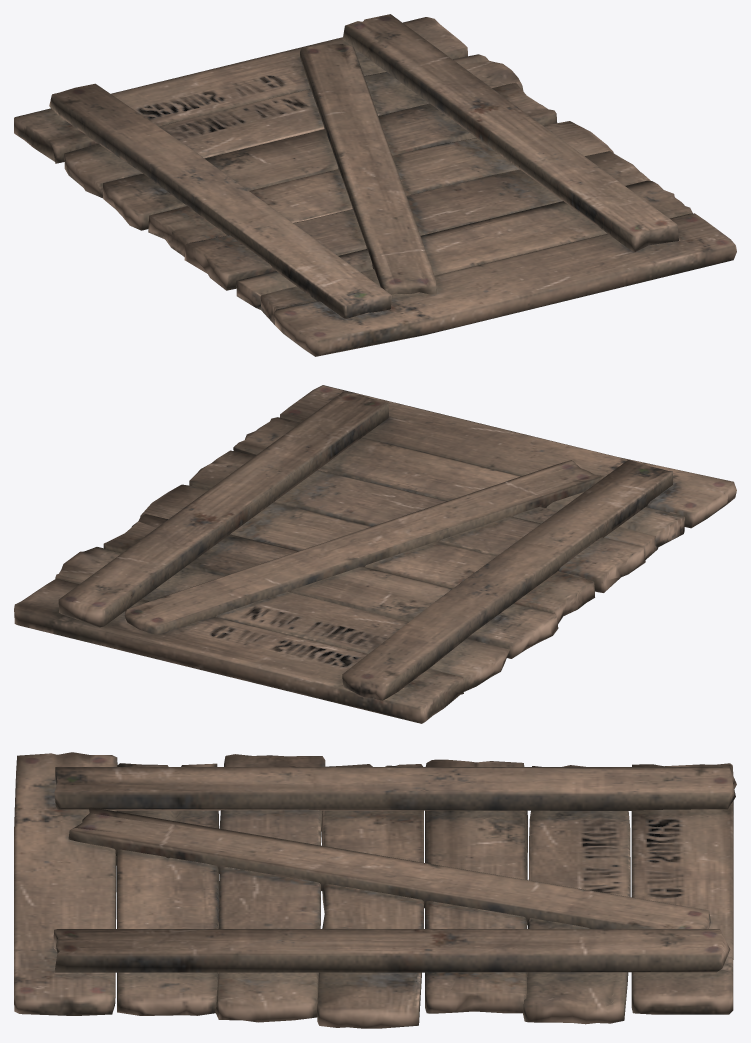
The picture shows the model from 3 angles, top to bottom: view 1: azimuth 30°, elevation 25°; view 2: azimuth 150°, elevation 25°; view 3: azimuth 270°, elevation 25°; orthographic projection. The views are drawn at different scales.
Visible parts, largest first — view 1: SM_Box02_3_LOD0; view 2: SM_Box02_3_LOD0; view 3: SM_Box02_3_LOD0.
Part boxes in pixels (x1,y1,x2,y2): SM_Box02_3_LOD0: (14, 14, 736, 356); SM_Box02_3_LOD0: (14, 385, 736, 723); SM_Box02_3_LOD0: (14, 752, 736, 1028).
Size of the model in its own units: 0.6386 by 0.0543 by 0.7847.
Materials: 1 (1 with a texture image).
